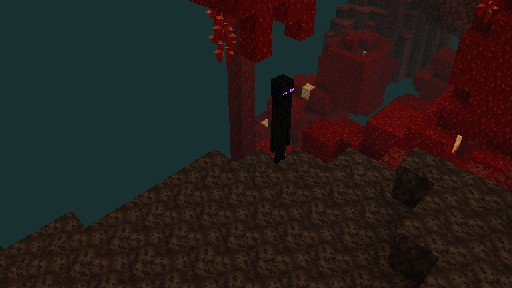enderman: (269, 73, 294, 165)
